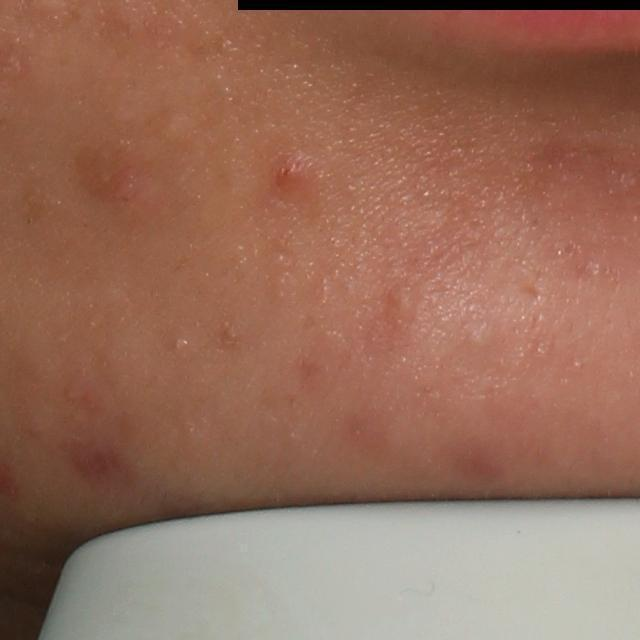comedo: (462, 328, 487, 352)
papule: (93, 167, 148, 208), (265, 153, 308, 198)
